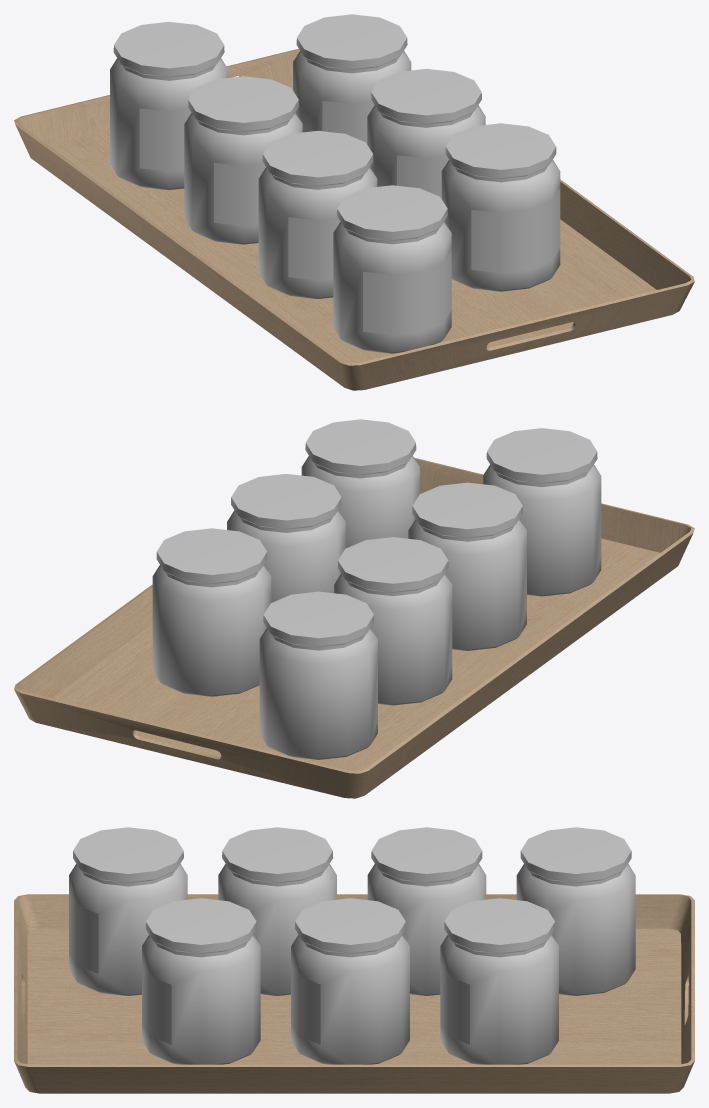
The model's file is D_Cafe_Food_004.fbx.
3 renders of one model, top to bottom at view 1: azimuth 30°, elevation 25°; view 2: azimuth 150°, elevation 25°; view 3: azimuth 270°, elevation 25°, orthographic.
Parts seen in each view (by area): view 1: D_Cafe_Food_004, D_Cafe_Food_004_glass; view 2: D_Cafe_Food_004, D_Cafe_Food_004_glass; view 3: D_Cafe_Food_004, D_Cafe_Food_004_glass.
Boxes of the visible parts, x1,y1,x2,y2 form: D_Cafe_Food_004: [14, 14, 694, 390]; D_Cafe_Food_004_glass: [110, 51, 560, 353]; D_Cafe_Food_004: [14, 419, 694, 798]; D_Cafe_Food_004_glass: [152, 456, 601, 759]; D_Cafe_Food_004: [14, 827, 694, 1093]; D_Cafe_Food_004_glass: [69, 864, 635, 1064].
Bounding box in the file's own units: 0.2972 × 0.1004 × 0.4951.
